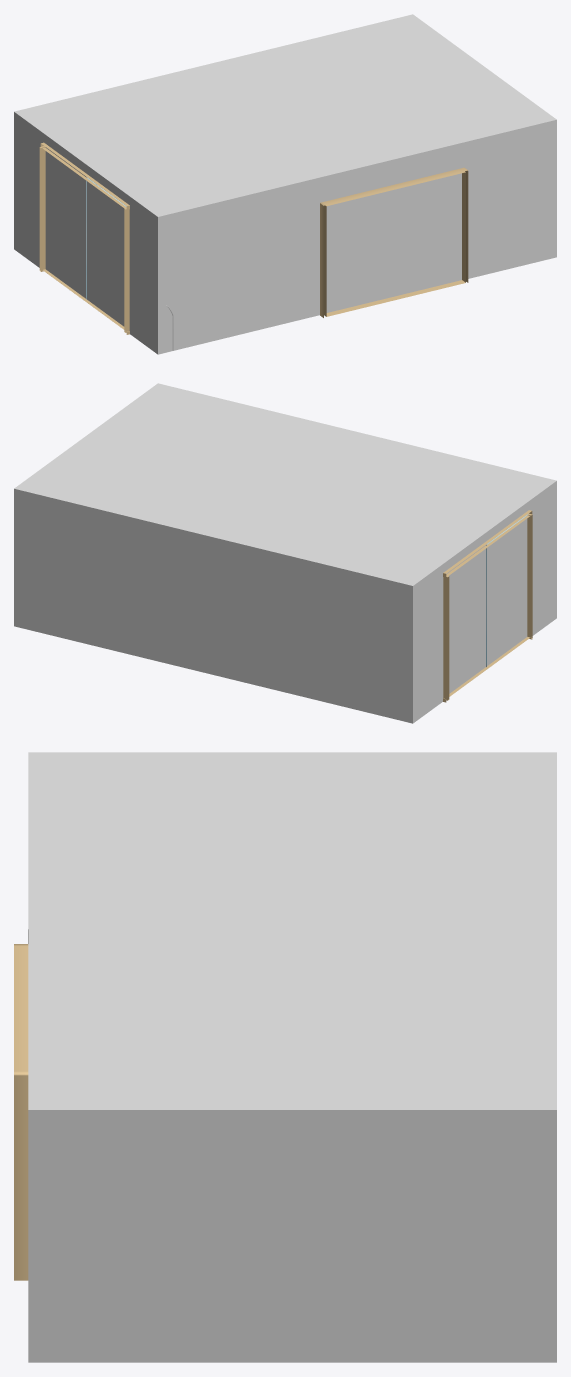
File: room1214.fbx
The picture shows the model from 3 angles, top to bottom: view 1: azimuth 30°, elevation 25°; view 2: azimuth 150°, elevation 25°; view 3: azimuth 270°, elevation 25°; orthographic projection. The views are drawn at different scales.
Visible parts, largest first — view 1: polySurface54, polySurface291, polySurface65, polySurface56, polySurface52, polySurface50, polySurface53; view 2: polySurface54, polySurface64, polySurface65, polySurface52, polySurface50, polySurface53; view 3: polySurface54, polySurface63, polySurface56.
Boxes of the visible parts, left/top/right/bottom form: polySurface54: left=14, top=14, right=556, bottom=216; polySurface291: left=158, top=119, right=556, bottom=354; polySurface65: left=14, top=112, right=157, bottom=354; polySurface56: left=320, top=167, right=468, bottom=317; polySurface52: left=39, top=146, right=45, bottom=271; polySurface50: left=124, top=208, right=129, bottom=332; polySurface53: left=40, top=142, right=129, bottom=209; polySurface54: left=14, top=383, right=556, bottom=585; polySurface64: left=14, top=488, right=412, bottom=723; polySurface65: left=413, top=481, right=556, bottom=723; polySurface52: left=443, top=575, right=449, bottom=700; polySurface50: left=527, top=513, right=532, bottom=638; polySurface53: left=443, top=510, right=532, bottom=577; polySurface54: left=28, top=752, right=556, bottom=1109; polySurface63: left=28, top=1110, right=556, bottom=1362; polySurface56: left=14, top=944, right=28, bottom=1280.
Size of the model in its own units: 73651 by 24084 by 46743.
